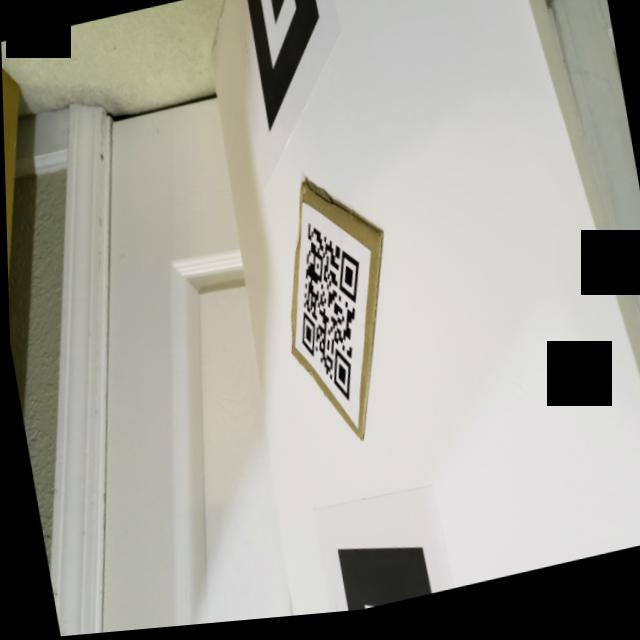QR_CODE: (272, 208, 387, 428)
